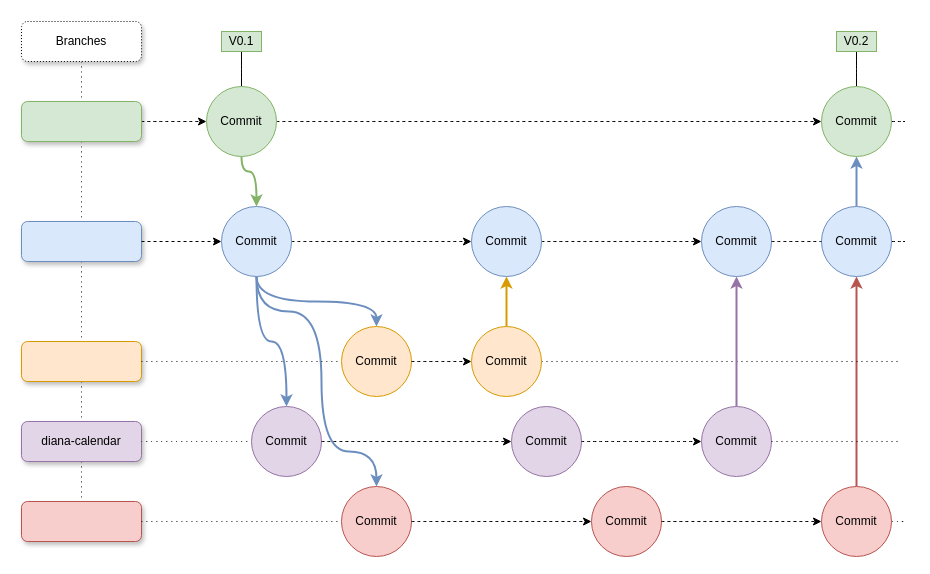
The diagram is 930 pixels wide and 574 high, and some of its shapes have lost their labels. Here are the shapes that lost their labels. From the top down, the centre of each, then its label:
At [82,122]: "Main".
At [82,242]: "Develop".
At [82,362]: "mateo-product-api".
At [82,522]: "dayana-characteristics".
